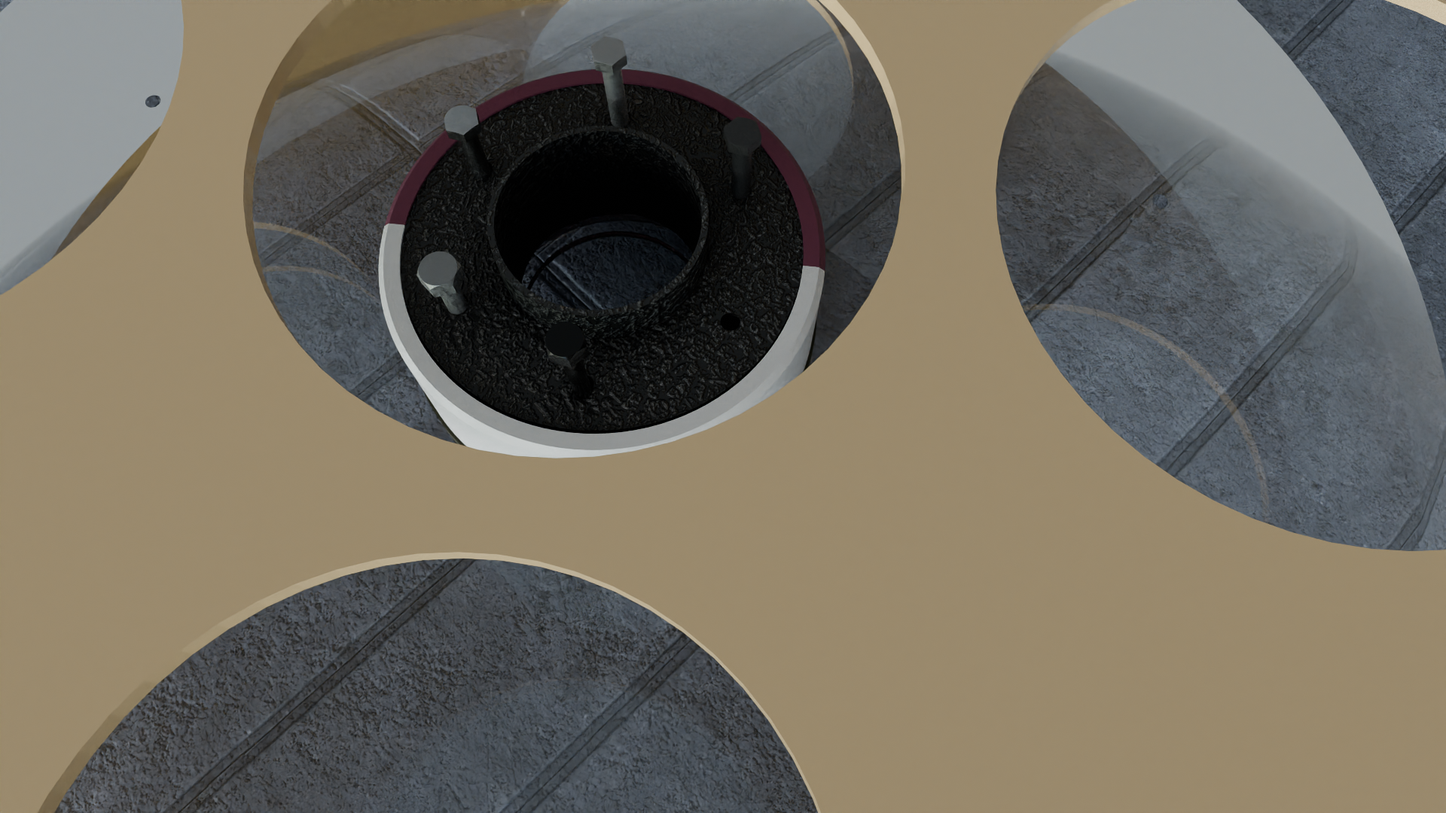bolt: (416, 251, 462, 290), (545, 321, 586, 361), (724, 117, 761, 148), (444, 104, 478, 135), (590, 37, 626, 66)
